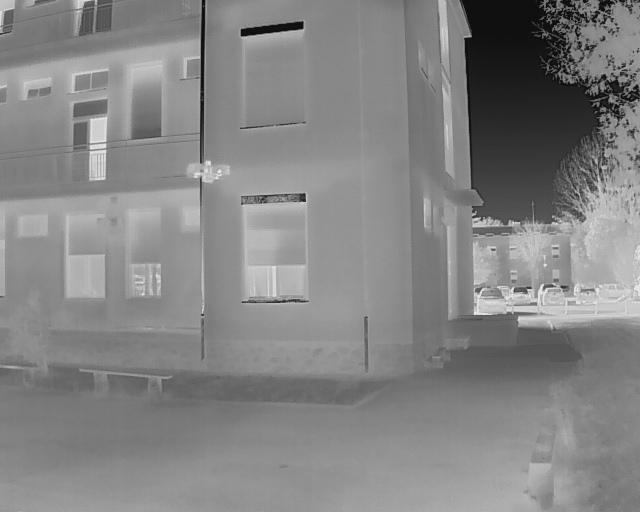drone: (182, 157, 233, 186)
